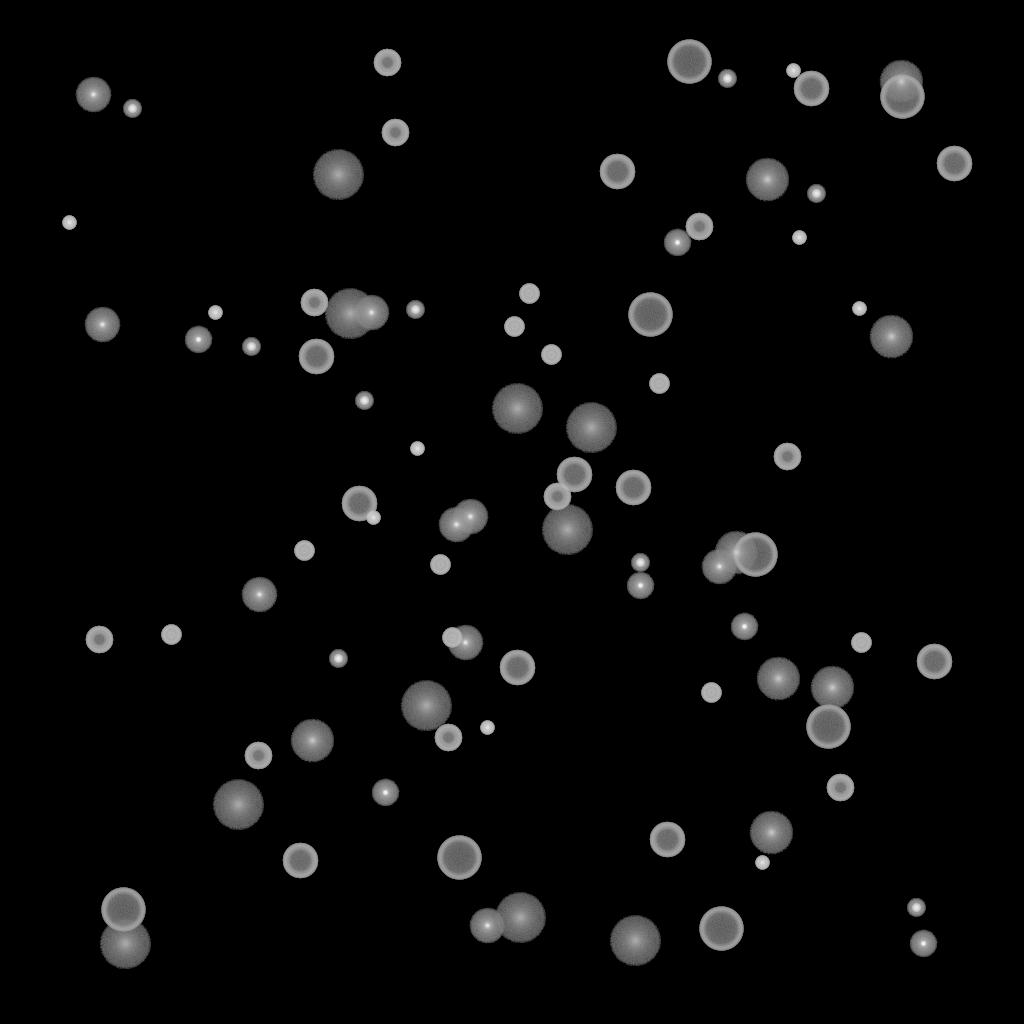depth:-10: (909, 930, 937, 958), (730, 613, 758, 641), (663, 229, 691, 257), (371, 779, 399, 807), (184, 326, 212, 354), (626, 572, 654, 600)
depth:-20: (123, 100, 141, 118), (631, 554, 649, 572), (406, 301, 424, 319), (907, 899, 925, 917), (355, 392, 373, 410), (807, 185, 825, 203), (718, 70, 736, 88), (329, 650, 347, 668), (242, 338, 260, 356)
depth:-30: (62, 216, 76, 230), (786, 64, 800, 78), (792, 231, 806, 245), (755, 856, 769, 870), (366, 511, 380, 525), (480, 721, 494, 735), (410, 442, 424, 456), (852, 302, 866, 316), (208, 306, 222, 320)
depth:-40: (701, 683, 721, 703), (851, 633, 871, 653), (649, 374, 669, 394), (294, 541, 314, 561), (430, 555, 450, 575), (541, 345, 561, 365), (519, 284, 539, 304), (504, 317, 524, 337), (161, 625, 181, 645), (442, 628, 462, 648)
depth:-50: (434, 724, 462, 752), (685, 213, 713, 241), (244, 742, 272, 770), (381, 119, 409, 147), (543, 483, 571, 511), (373, 49, 401, 77), (300, 289, 328, 317), (773, 443, 801, 471), (85, 626, 113, 654), (826, 774, 854, 802)
depth:-60: (793, 71, 829, 107), (936, 146, 972, 182), (282, 843, 318, 879), (649, 822, 685, 858), (599, 154, 635, 190), (499, 650, 535, 686), (556, 457, 592, 493), (916, 644, 952, 680), (298, 339, 334, 375), (615, 470, 651, 506), (341, 486, 377, 522)
depth:-70: (628, 293, 672, 337), (880, 75, 924, 119), (437, 836, 481, 880), (806, 705, 850, 749), (101, 888, 145, 932), (733, 533, 777, 577), (699, 907, 743, 951), (667, 40, 711, 84)
depth:0: (469, 908, 505, 944), (84, 307, 120, 343), (452, 499, 488, 535), (241, 577, 277, 613), (438, 507, 474, 543), (447, 625, 483, 661), (353, 295, 389, 331), (75, 77, 111, 113), (701, 549, 737, 585)
depth:10: (745, 158, 789, 202), (756, 657, 800, 701), (879, 60, 923, 104), (869, 315, 913, 359), (714, 531, 758, 575), (290, 719, 334, 763), (810, 666, 854, 710), (749, 811, 793, 855)
depth:20: (324, 289, 376, 339), (491, 384, 543, 434), (212, 780, 264, 830), (609, 916, 661, 966), (494, 893, 546, 943), (312, 150, 364, 200), (565, 403, 617, 453), (400, 681, 452, 731), (99, 919, 151, 969), (541, 505, 593, 555)
